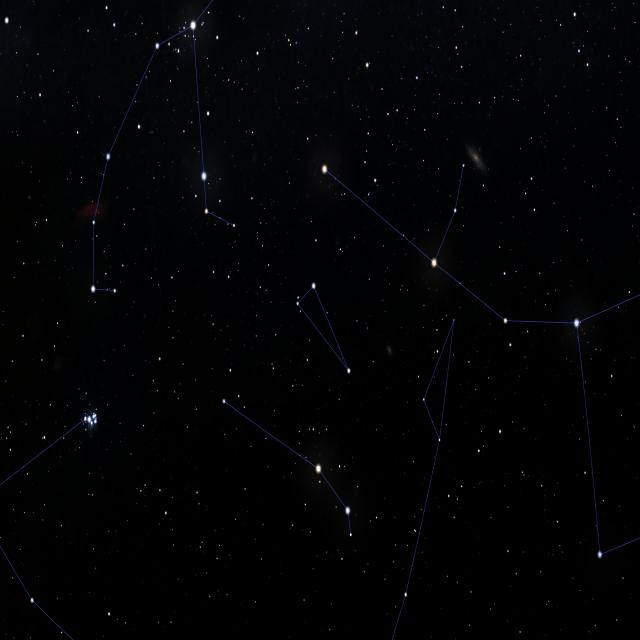Triangulum: (288, 277, 358, 377)
